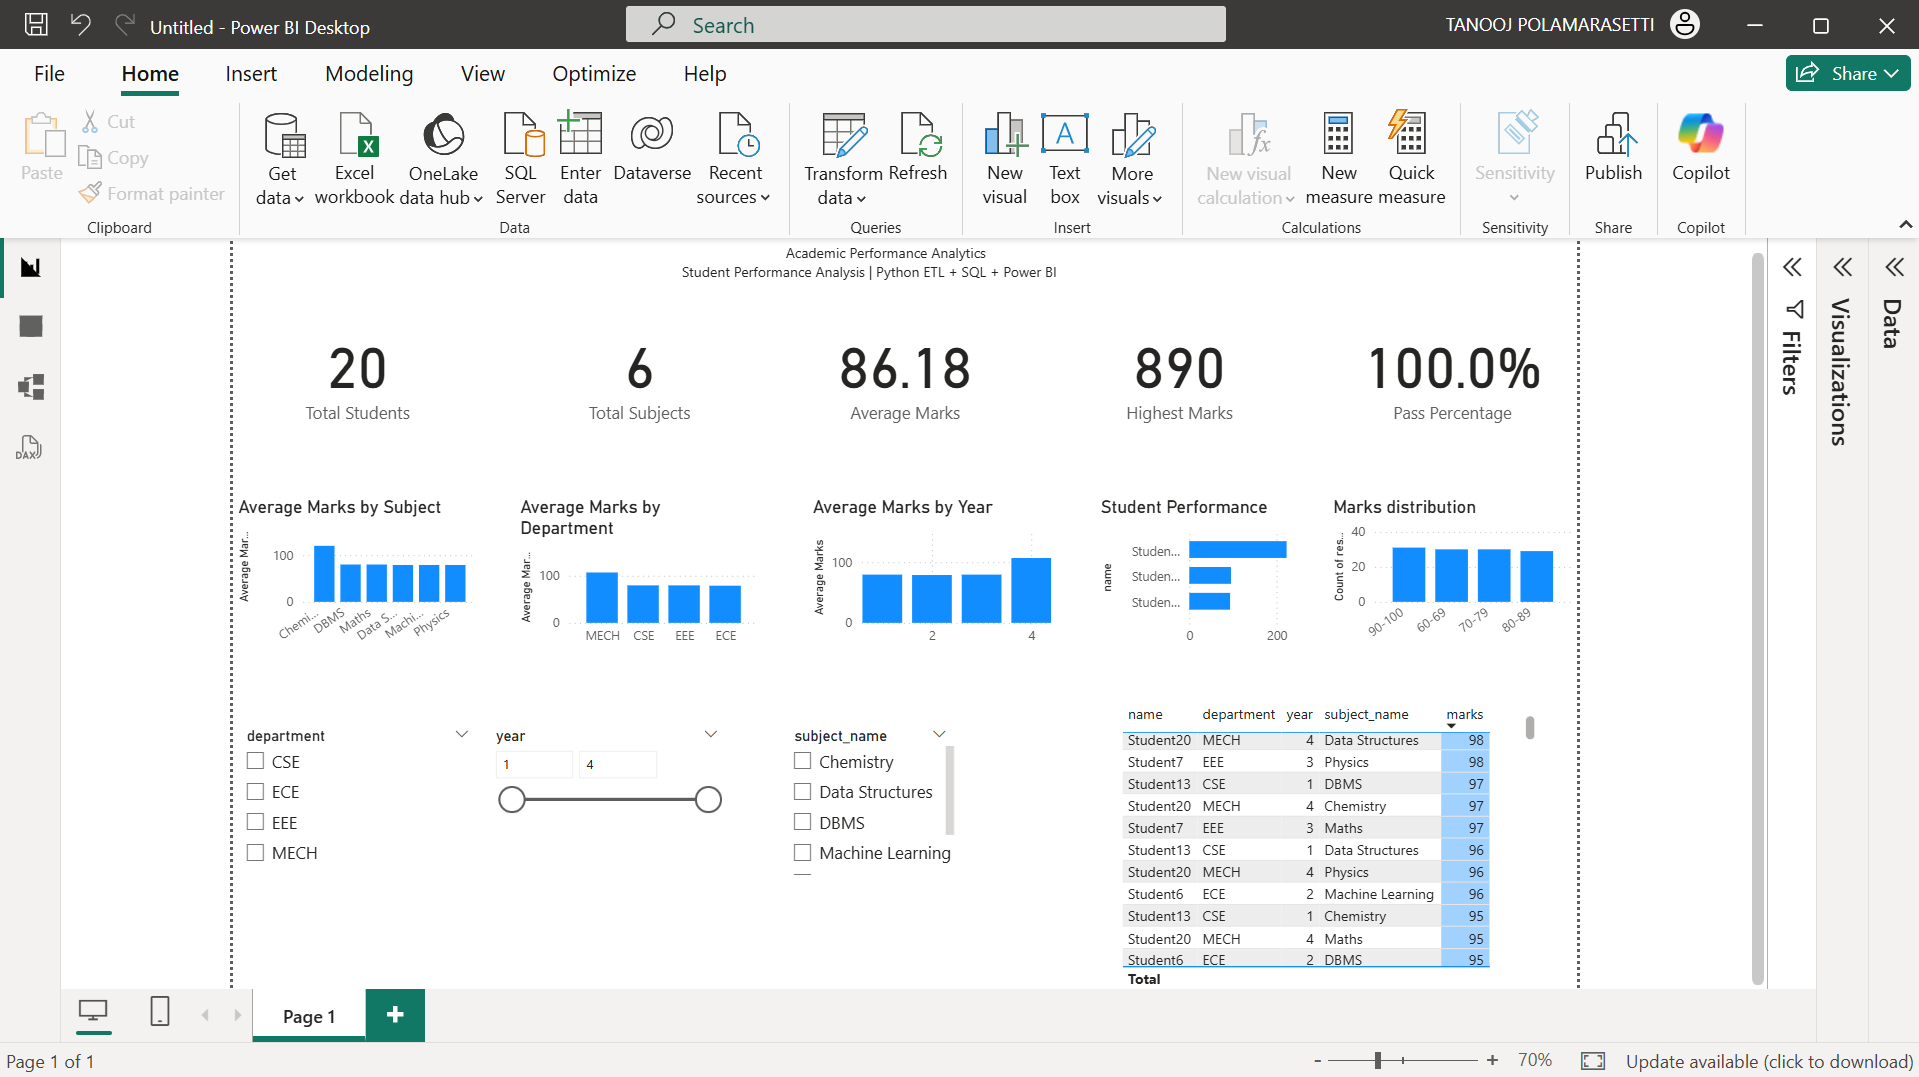

The dashboard page shown, as its layout file describes it:
{"tool":"powerbi","page":{"name":"Page 1","canvas":[1280,720],"ordinal":0},"visuals":[{"type":"textbox","box":[10.6,0,1128.1,53],"z":0},{"type":"card","fields":{"Values":["results.Total Students"]},"box":[0,53.3,236.7,150],"z":1000},{"type":"card","fields":{"Values":["results.Total Subjects"]},"box":[268.3,53.3,236.7,150],"z":2000},{"type":"card","fields":{"Values":["results.Average Marks"]},"box":[521.7,53.3,236.7,150],"z":3000},{"type":"card","fields":{"Values":["results.Highest Marks"]},"box":[783.3,53.3,236.7,150],"z":4000},{"type":"card","fields":{"Values":["results.Pass Percentage"]},"box":[1043.3,53.3,236.7,150],"z":5000},{"type":"clusteredColumnChart","title":"Average Marks by Subject","fields":{"Category":["subjects.subject_name"],"Y":["results.Average Marks"]},"box":[0,246.7,236.7,150],"z":6000},{"type":"clusteredColumnChart","title":"Average Marks by Department","fields":{"Y":["results.Average Marks"],"Category":["students.department"]},"box":[268.3,246.7,236.7,150],"z":7000},{"type":"clusteredColumnChart","title":"Average Marks by Year","fields":{"Category":["students.year"],"Y":["results.Average Marks"]},"box":[546.7,246.7,236.7,150],"z":8000},{"type":"barChart","title":"Student Performance","fields":{"Category":["students.name"],"Y":["results.Average Marks"]},"box":[821.7,246.7,236.7,150],"z":9000},{"type":"clusteredColumnChart","title":"Marks distribution","fields":{"Category":["results.Marks Range"],"Y":["CountNonNull(results.result_id)"]},"box":[1043.3,246.7,236.7,150],"z":10000},{"type":"slicer","fields":{"Values":["students.department"]},"box":[0,461.7,236.7,150],"z":11000},{"type":"slicer","fields":{"Values":["students.year"]},"box":[236.7,461.7,236.7,150],"z":12000},{"type":"slicer","fields":{"Values":["subjects.subject_name"]},"box":[521.7,461.7,170,150],"z":13000},{"type":"tableEx","fields":{"Values":["students.name","students.department","students.year","subjects.subject_name","results.marks"]},"box":[841.7,438.3,403.3,281.7],"z":13001}]}

Visuals, with their boxes on the page's 1280x720 design canvas (x1, y1, x2, y2). These are canvas units, not pixel positions in the 1919x1077 screenshot, which may show the page scaled, cropped or inside an application window:
textbox: region(11, 0, 1139, 53)
card - results.Total Students: region(0, 53, 237, 203)
card - results.Total Subjects: region(268, 53, 505, 203)
card - results.Average Marks: region(522, 53, 758, 203)
card - results.Highest Marks: region(783, 53, 1020, 203)
card - results.Pass Percentage: region(1043, 53, 1280, 203)
"Average Marks by Subject" clusteredColumnChart: region(0, 247, 237, 397)
"Average Marks by Department" clusteredColumnChart: region(268, 247, 505, 397)
"Average Marks by Year" clusteredColumnChart: region(547, 247, 783, 397)
"Student Performance" barChart: region(822, 247, 1058, 397)
"Marks distribution" clusteredColumnChart: region(1043, 247, 1280, 397)
slicer - students.department: region(0, 462, 237, 612)
slicer - students.year: region(237, 462, 473, 612)
slicer - subjects.subject_name: region(522, 462, 692, 612)
tableEx - students.name x students.department: region(842, 438, 1245, 720)
